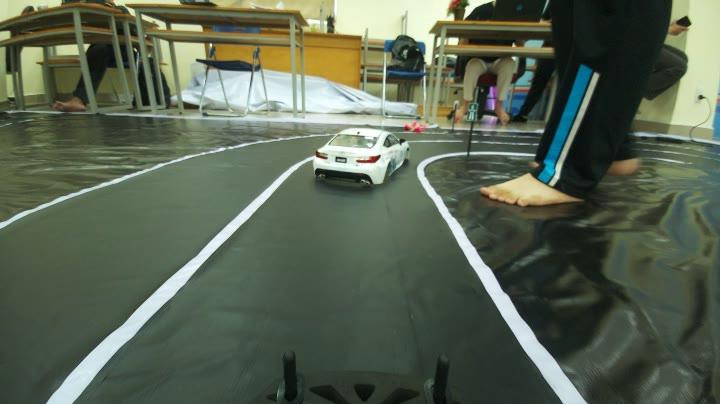car: (313, 119, 409, 197)
